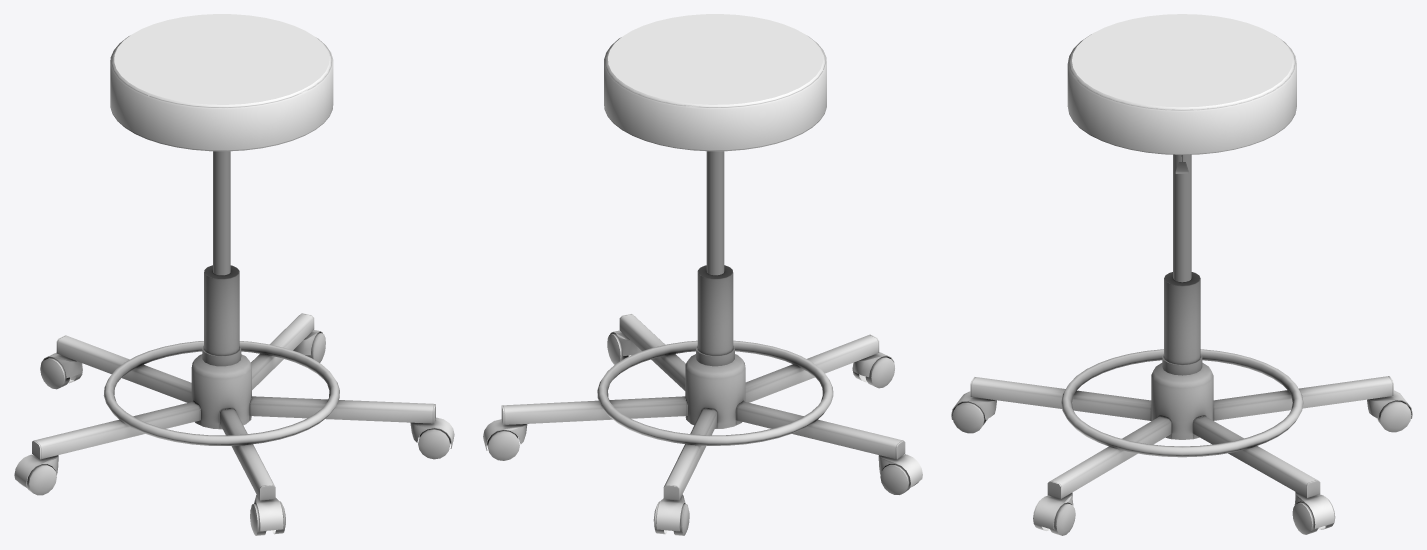
File: Chair.fbx
3 views of the same model, side by side, from view 1: azimuth 30°, elevation 25°; view 2: azimuth 150°, elevation 25°; view 3: azimuth 270°, elevation 25° (orthographic). The views are drawn at different scales.
Parts seen in each view (by area): view 1: model_0; view 2: model_0; view 3: model_0.
Part boxes in pixels (x1=…): model_0: x1=14, y1=14, x2=454, y2=535; model_0: x1=483, y1=14, x2=922, y2=535; model_0: x1=951, y1=14, x2=1412, y2=535.
Bounding box in the file's own units: 61.15 × 60.59 × 64.18.
Materials: 1 (1 with a texture image).
